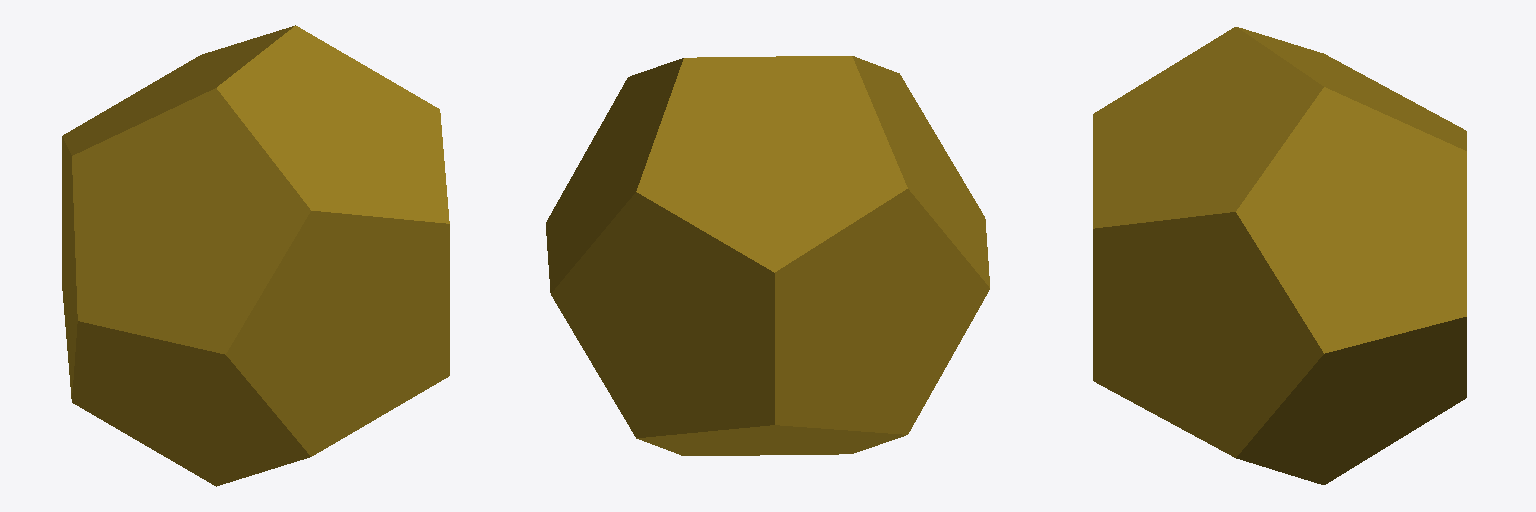
3 renders of one model, left to right at view 1: azimuth 30°, elevation 25°; view 2: azimuth 150°, elevation 25°; view 3: azimuth 270°, elevation 25°, orthographic.
Parts seen in each view (by area): view 1: Icosphere.001_Icosphere.002; view 2: Icosphere.001_Icosphere.002; view 3: Icosphere.001_Icosphere.002.
Part boxes in pixels (bbox=[...]): Icosphere.001_Icosphere.002: bbox=[62, 25, 449, 486]; Icosphere.001_Icosphere.002: bbox=[546, 56, 989, 455]; Icosphere.001_Icosphere.002: bbox=[1093, 27, 1466, 484].
Size of the model in its own units: 1.48 by 1.4 by 1.19.
1 materials, 1 textured.